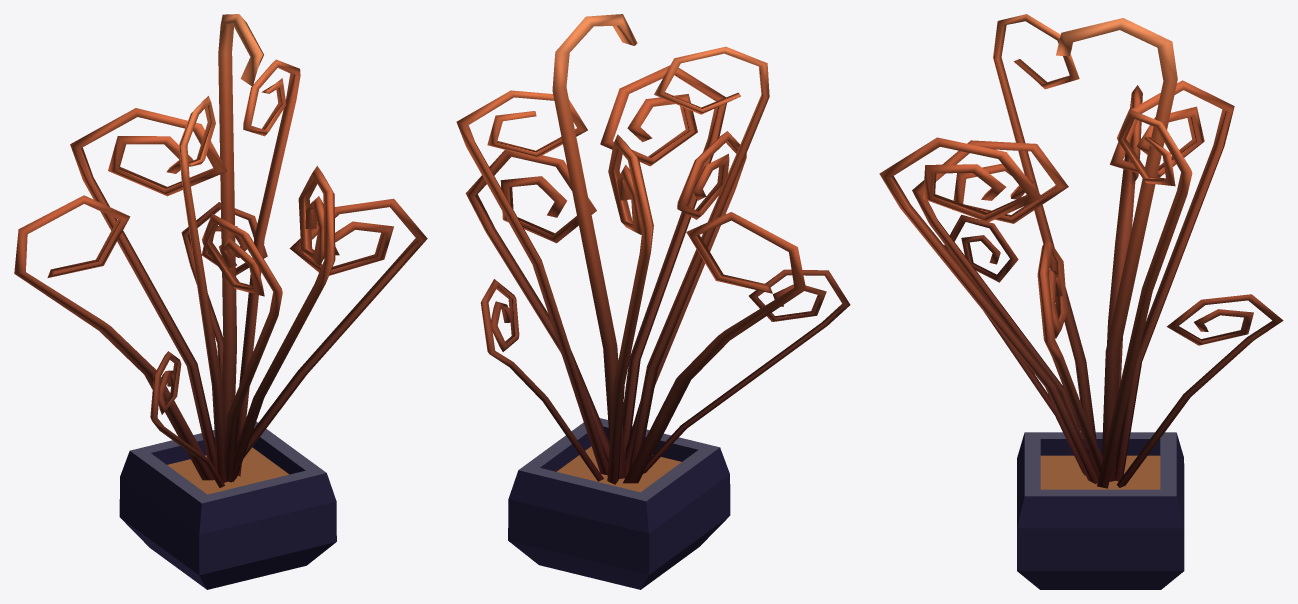
Rendered from pfp08.fbx.
3 renders of one model, left to right at view 1: azimuth 30°, elevation 25°; view 2: azimuth 150°, elevation 25°; view 3: azimuth 270°, elevation 25°, orthographic. The views are drawn at different scales.
Visible parts, largest first — view 1: pfp08; view 2: pfp08; view 3: pfp08.
Part boxes in pixels (x1,y1,x2,y2): pfp08: (14,14,427,589); pfp08: (456,14,850,589); pfp08: (879,14,1283,589).
Bounding box in the file's own units: 60.12 × 81.54 × 53.57.
